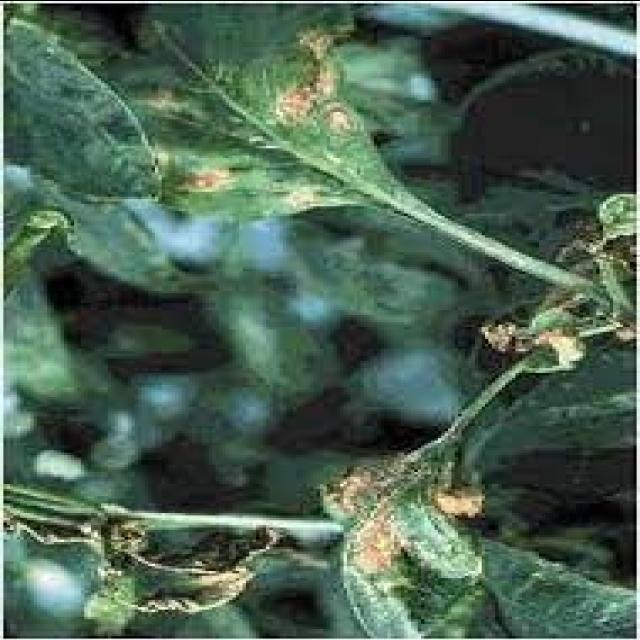bercak_daun: (95, 0, 402, 237), (293, 430, 499, 640)
